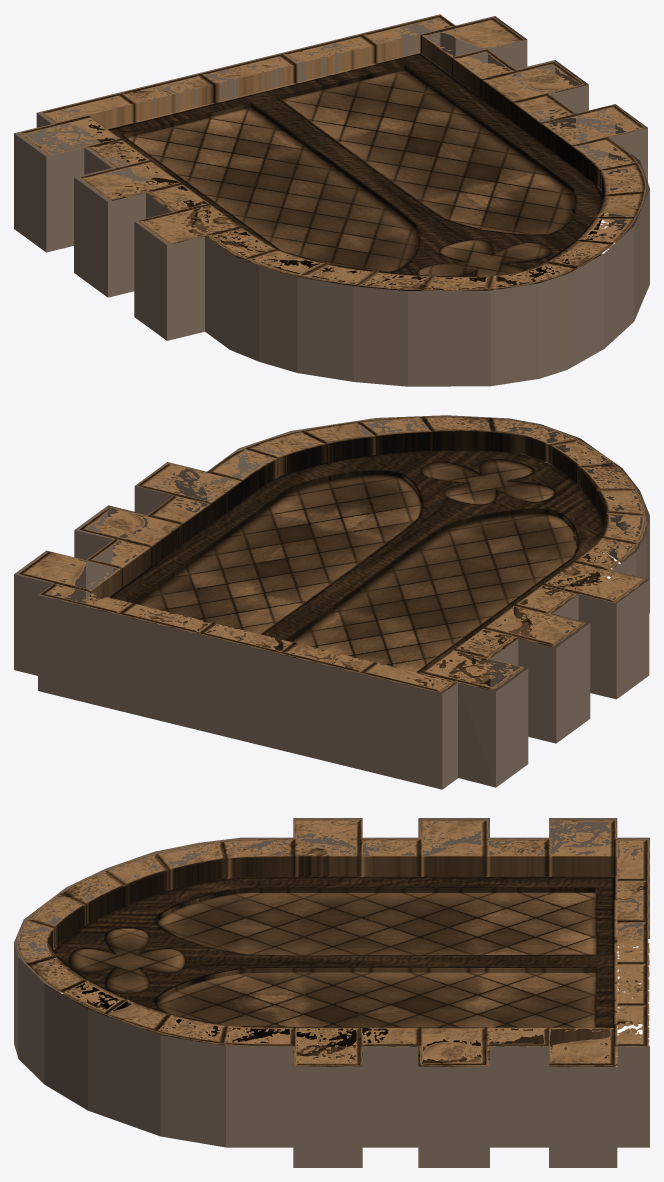
The model's file is okno3.fbx.
3 renders of one model, top to bottom at view 1: azimuth 30°, elevation 25°; view 2: azimuth 150°, elevation 25°; view 3: azimuth 270°, elevation 25°, orthographic. The views are drawn at different scales.
Visible parts, largest first — view 1: Cube; view 2: Cube; view 3: Cube.
Boxes of the visible parts, left/top/right/bottom form: Cube: left=14, top=14, right=649, bottom=386; Cube: left=14, top=415, right=649, bottom=789; Cube: left=14, top=818, right=649, bottom=1167.
Bounding box in the file's own units: 168 × 31.99 × 182.
